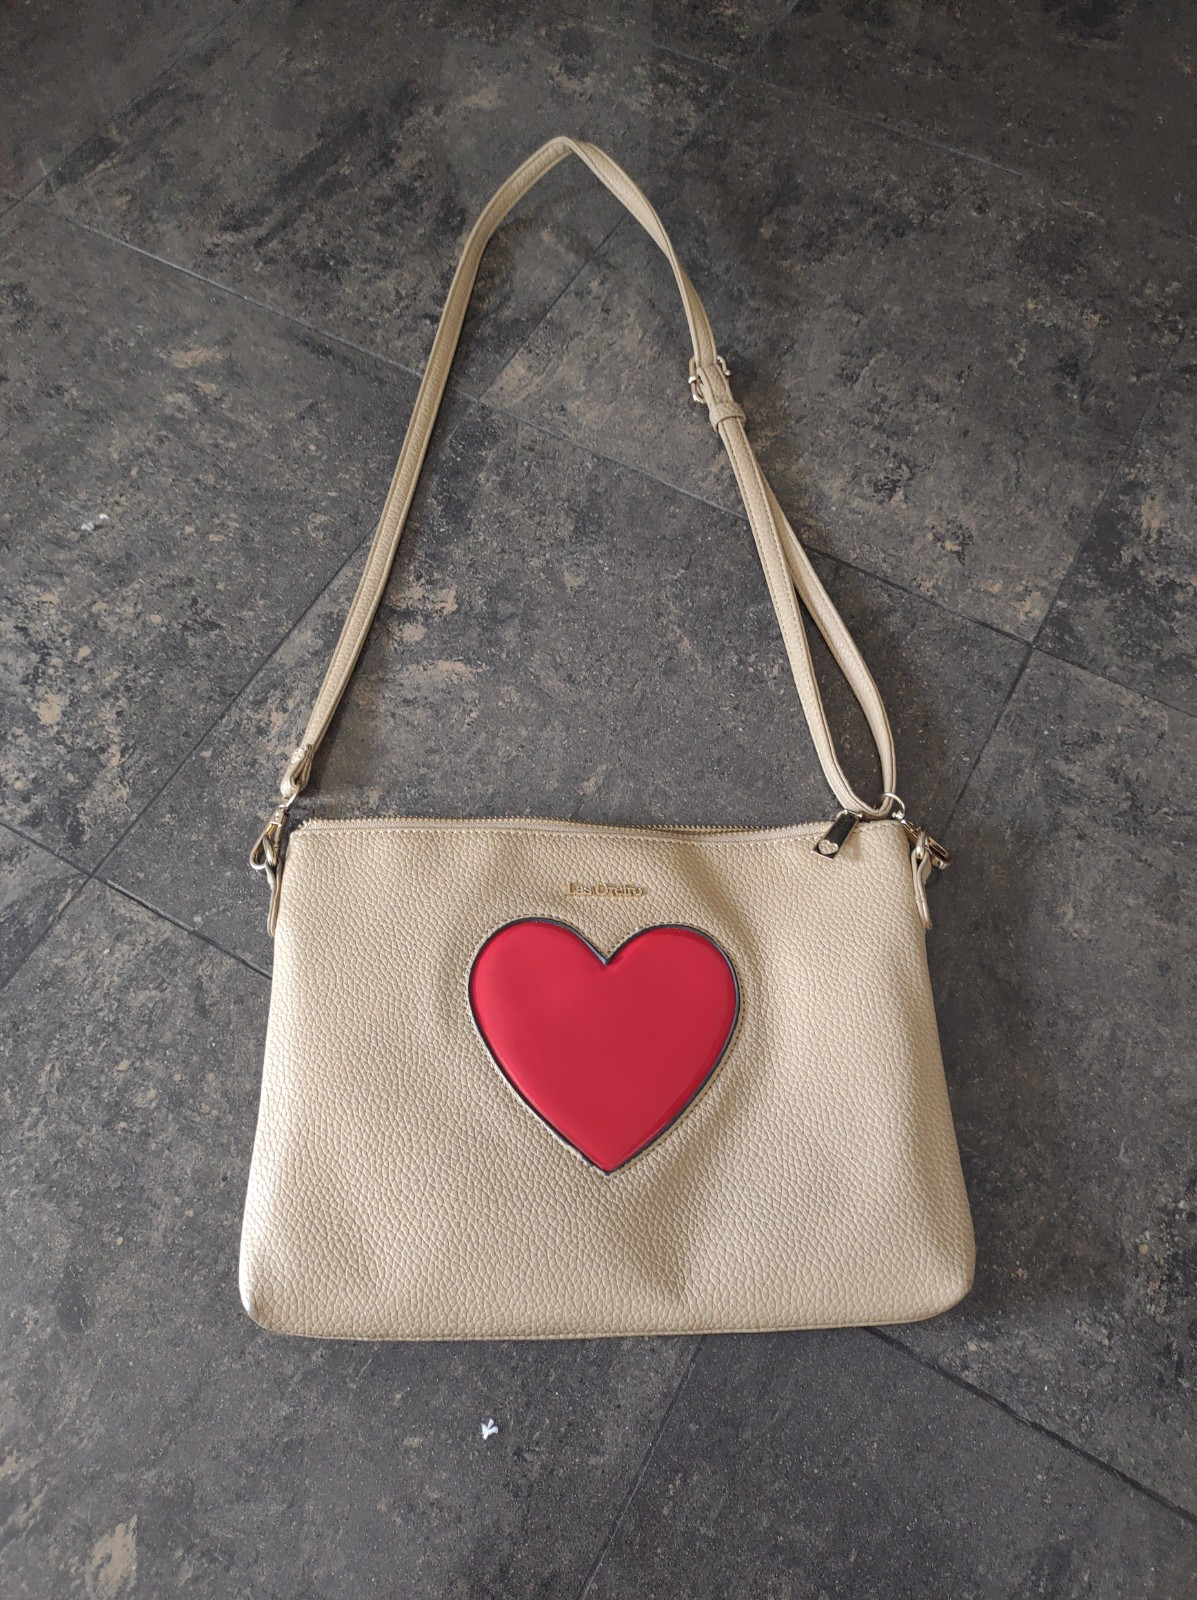cartera: (143, 408, 1138, 1443)
cuero: (246, 814, 977, 1339)
